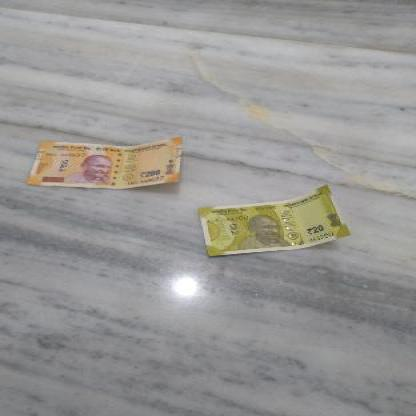New200Front: (32, 140, 183, 185)
New20Front: (196, 184, 356, 255)
